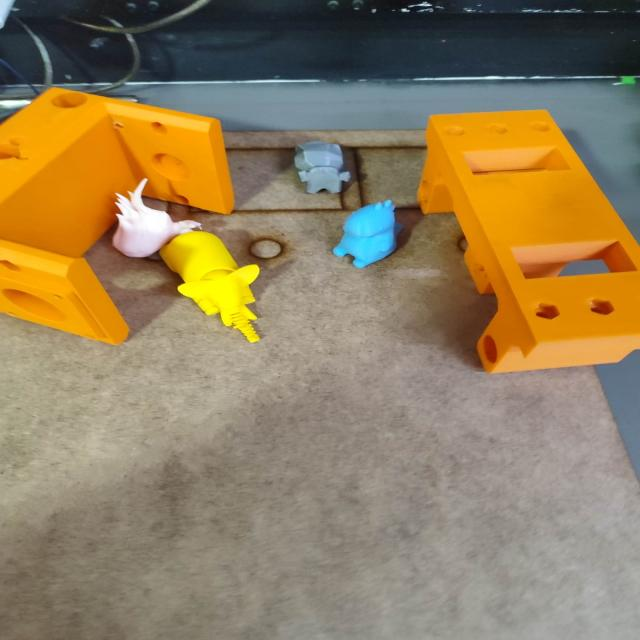DINO: (313, 200, 412, 268)
